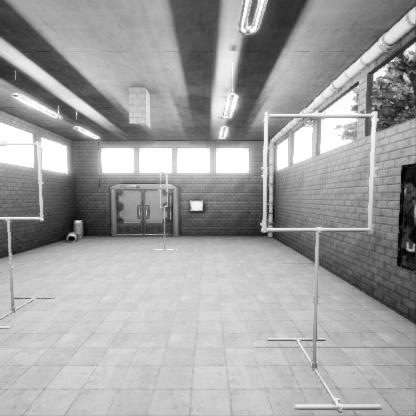gate: (267, 188, 390, 309), (160, 209, 167, 246)
